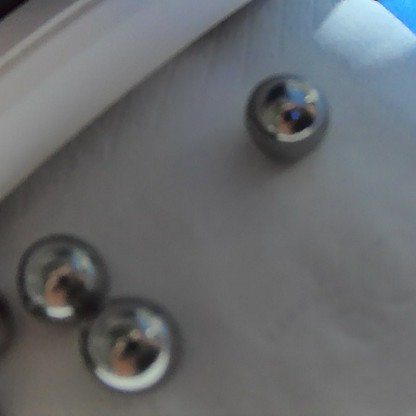ironball: (231, 67, 330, 161), (83, 299, 178, 394), (12, 229, 93, 314)
